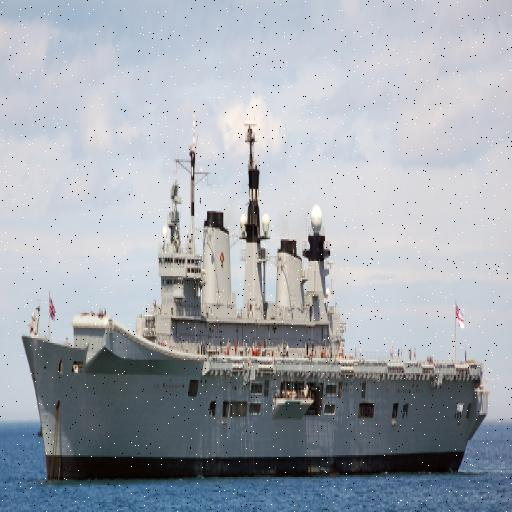Portanaves: (21, 115, 490, 490)
